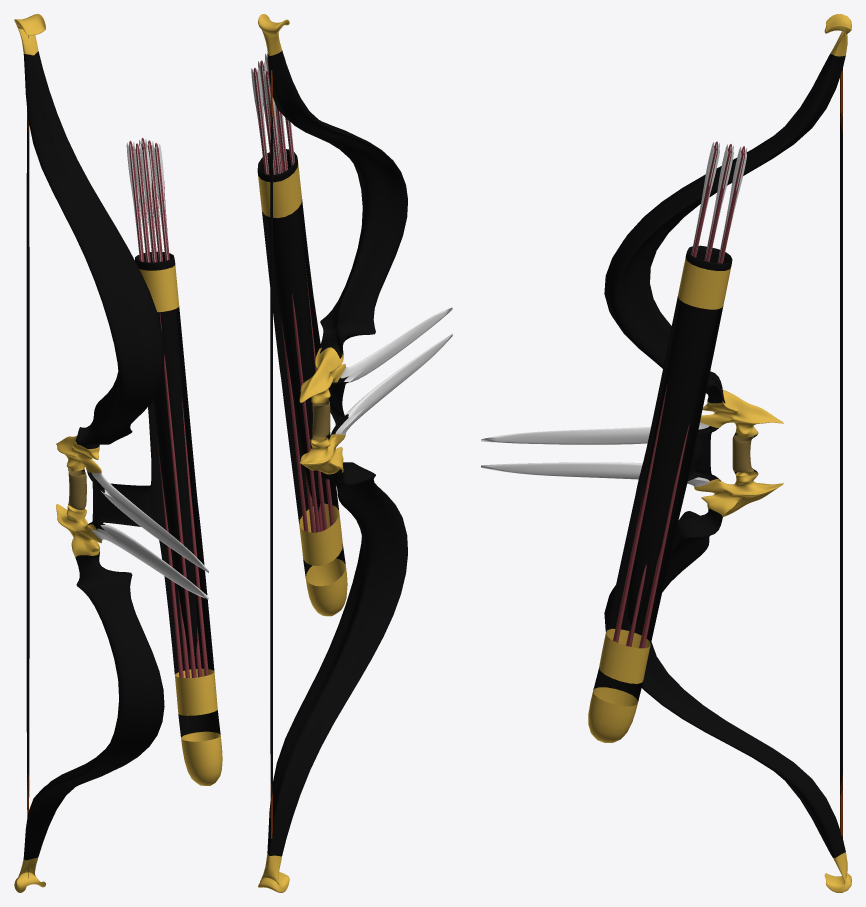
The model's file is bow2.glb.
3 views of the same model, side by side, from view 1: azimuth 30°, elevation 25°; view 2: azimuth 150°, elevation 25°; view 3: azimuth 270°, elevation 25° (orthographic).
Visible parts, largest first — view 1: bow; view 2: bow; view 3: bow.
Boxes of the visible parts, left/top/right/bottom form: bow: left=14, top=14, right=222, bottom=892; bow: left=251, top=14, right=452, bottom=892; bow: left=481, top=14, right=851, bottom=892.
Bounding box in the file's own units: 0.1311 × 1.05 × 0.4078.
